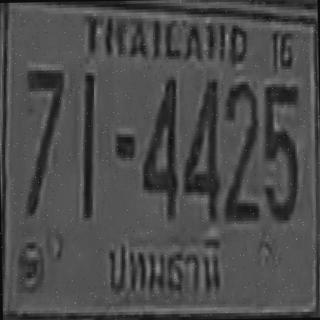N01: (79, 71, 95, 216)
N02: (221, 78, 258, 218)
N04: (180, 76, 219, 219), (140, 74, 178, 217)
N05: (261, 80, 300, 220)
N07: (24, 68, 64, 214)
P38: (102, 232, 230, 298)
